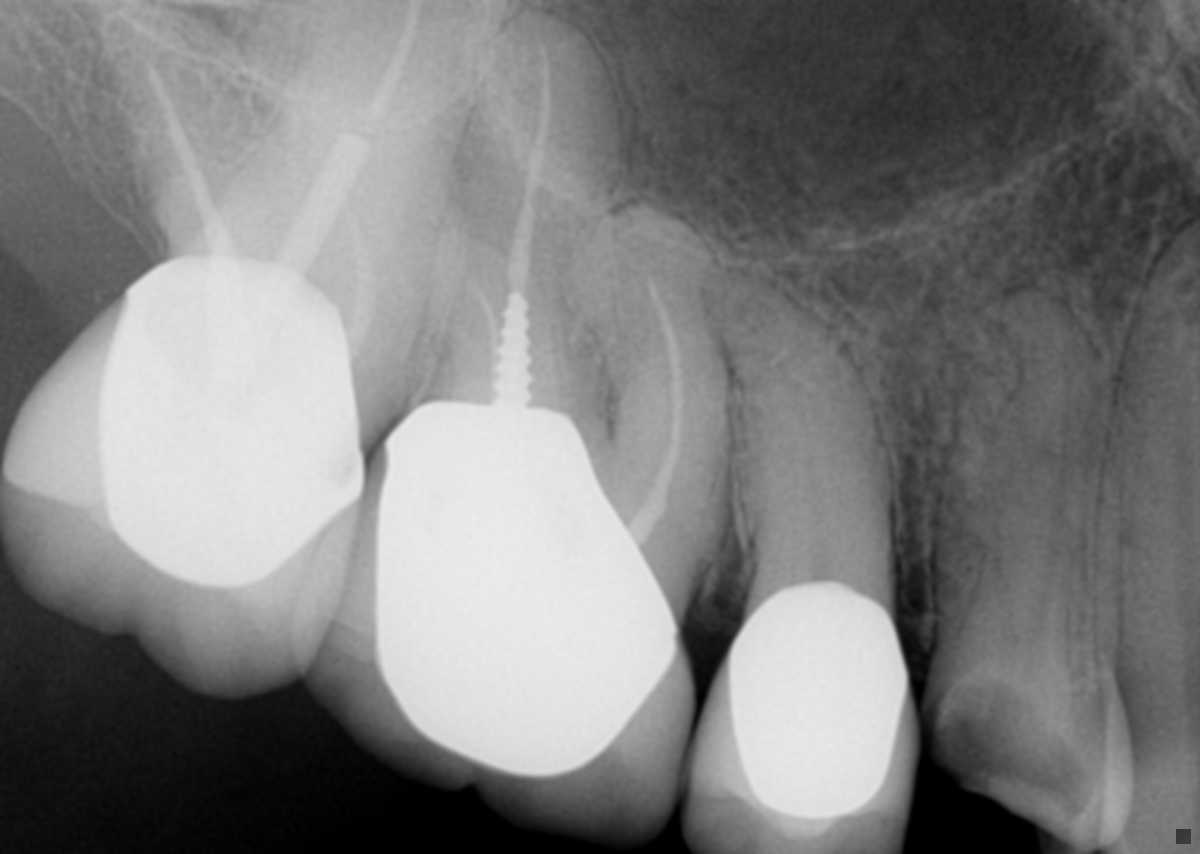Distal Root: (116, 25, 289, 263), (417, 234, 562, 413)
Main Canal: (778, 364, 833, 582), (1177, 333, 1200, 640)
Main Root: (701, 262, 895, 608), (965, 291, 1124, 669), (1094, 219, 1200, 660)
Mesial Root: (572, 200, 733, 581), (317, 178, 422, 416)
Palatal Root: (198, 0, 500, 410), (434, 12, 614, 434)
Root Canal Filling: (142, 68, 236, 255), (629, 283, 688, 545), (507, 45, 550, 296), (356, 1, 417, 140), (339, 200, 377, 359), (471, 280, 501, 370)
decay: (938, 669, 1094, 816)
